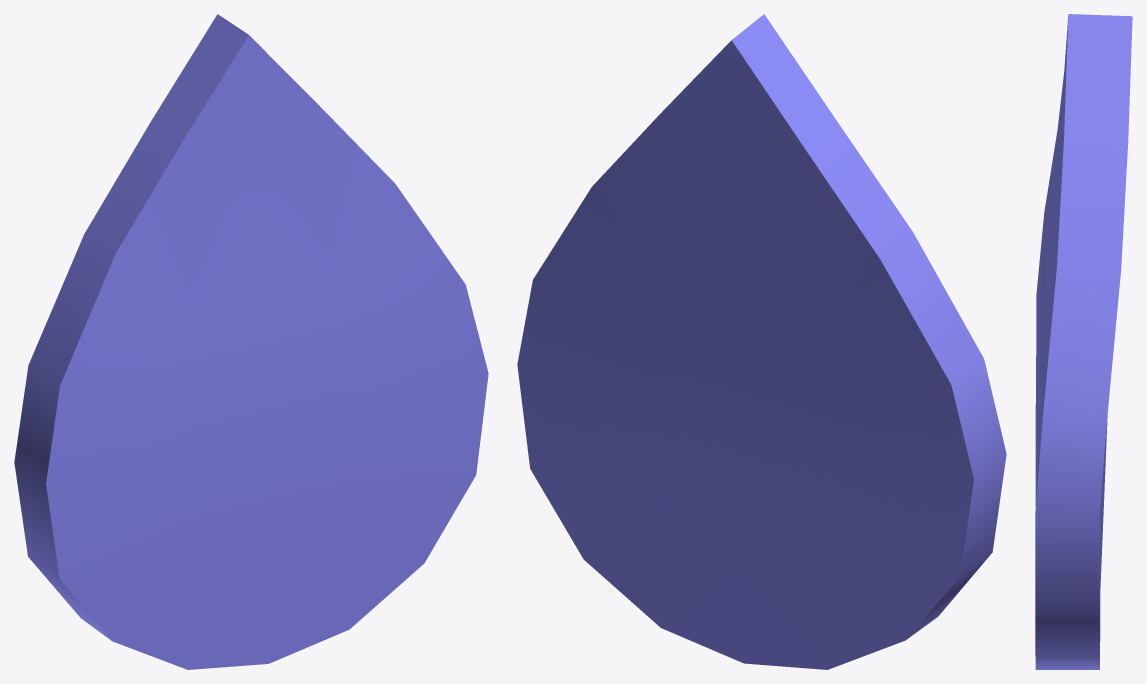
File: droplet.fbx
The picture shows the model from 3 angles, left to right: view 1: azimuth 30°, elevation 25°; view 2: azimuth 150°, elevation 25°; view 3: azimuth 270°, elevation 25°; orthographic projection. The views are drawn at different scales.
Visible parts, largest first — view 1: pDisc1; view 2: pDisc1; view 3: pDisc1.
Boxes of the visible parts, x1=… form: pDisc1: x1=14, y1=14, x2=488, y2=669; pDisc1: x1=517, y1=14, x2=1006, y2=669; pDisc1: x1=1035, y1=14, x2=1132, y2=669.
Size of the model in its own units: 1.12 by 1.49 by 0.209.
